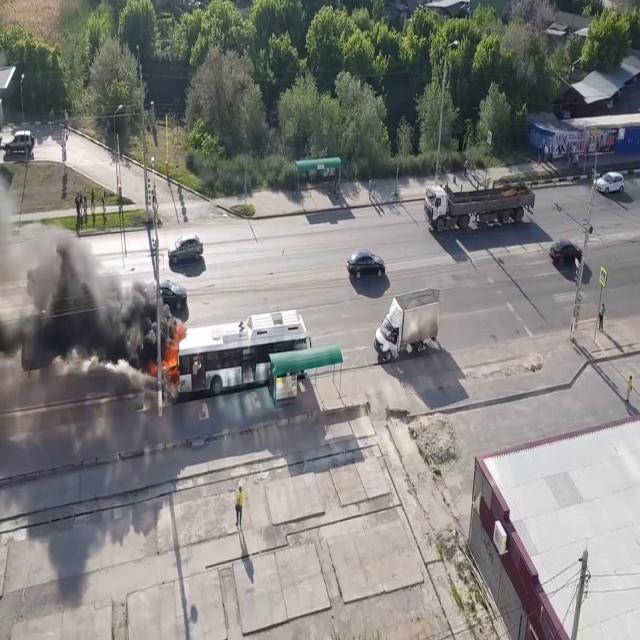Fire: (161, 329, 185, 382)
Smoke: (0, 180, 172, 372)
